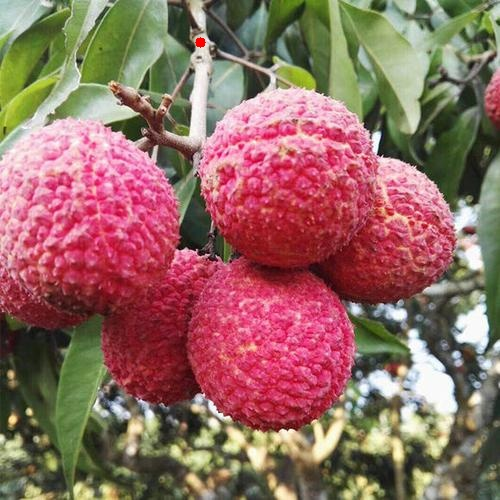litchi: (1, 102, 449, 421)
stem: (174, 1, 221, 158)
